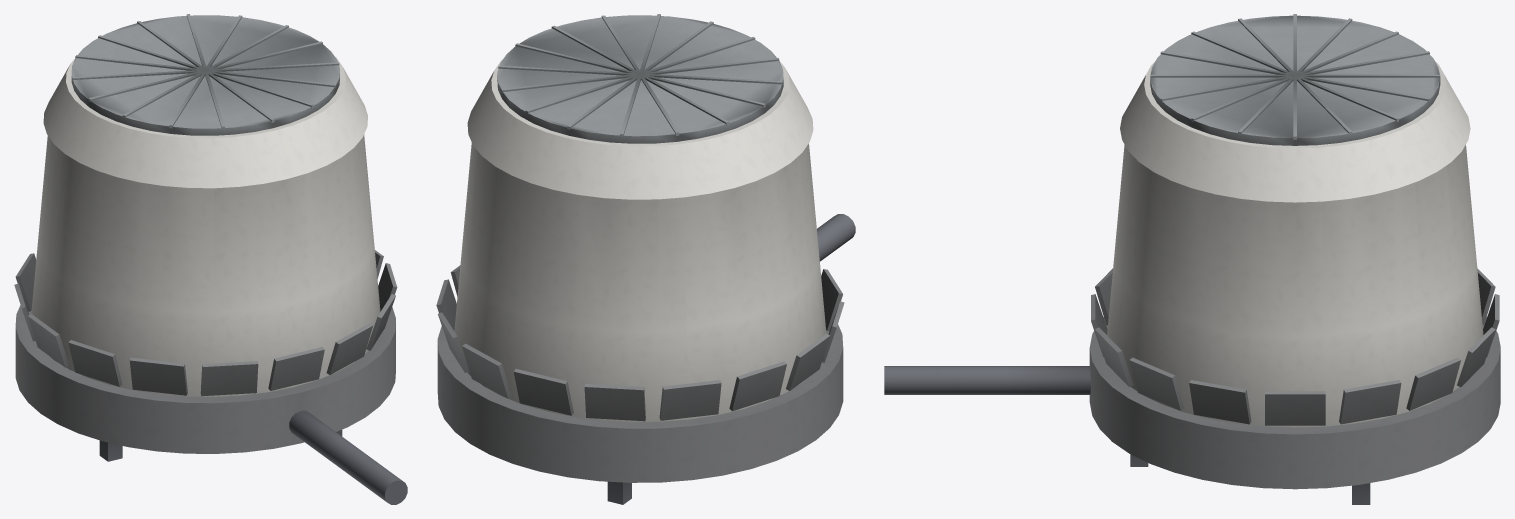
File: roof_coolingtower.glb
3 views of the same model, side by side, from view 1: azimuth 30°, elevation 25°; view 2: azimuth 150°, elevation 25°; view 3: azimuth 270°, elevation 25° (orthographic). The views are drawn at different scales.
Parts seen in each view (by area): view 1: roof_coolingtower_plastic_white, roof_coolingtower_plastic_grey, roof_coolingtower_galvanised, roof_coolingtower_paint_grey; view 2: roof_coolingtower_plastic_white, roof_coolingtower_plastic_grey, roof_coolingtower_galvanised, roof_coolingtower_paint_grey; view 3: roof_coolingtower_plastic_white, roof_coolingtower_plastic_grey, roof_coolingtower_galvanised, roof_coolingtower_paint_grey.
Boxes of the visible parts, x1=… form: roof_coolingtower_plastic_white: x1=31, y1=57, x2=380, y2=396; roof_coolingtower_plastic_grey: x1=14, y1=250, x2=397, y2=453; roof_coolingtower_galvanised: x1=71, y1=14, x2=339, y2=135; roof_coolingtower_paint_grey: x1=99, y1=410, x2=407, y2=504; roof_coolingtower_plastic_white: x1=454, y1=59, x2=826, y2=421; roof_coolingtower_plastic_grey: x1=436, y1=265, x2=844, y2=482; roof_coolingtower_galvanised: x1=497, y1=14, x2=783, y2=143; roof_coolingtower_paint_grey: x1=607, y1=214, x2=855, y2=504; roof_coolingtower_plastic_white: x1=1107, y1=61, x2=1483, y2=427; roof_coolingtower_plastic_grey: x1=1089, y1=268, x2=1500, y2=489; roof_coolingtower_galvanised: x1=1150, y1=14, x2=1440, y2=145; roof_coolingtower_paint_grey: x1=884, y1=366, x2=1370, y2=504.
Size of what is drawn, in the model's own units: 3.4 by 3.28 by 5.1.
Materials: 5 (5 with a texture image).
